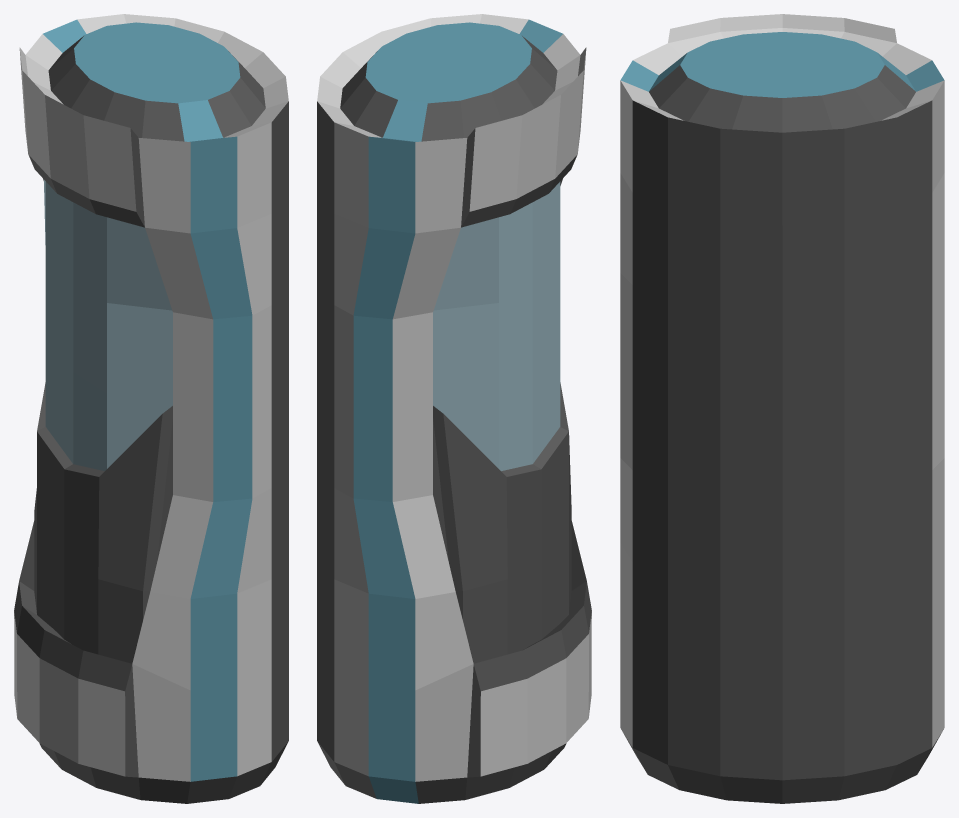
The model's file is CryoTubeUp.dae.
3 views of the same model, side by side, from view 1: azimuth 30°, elevation 25°; view 2: azimuth 150°, elevation 25°; view 3: azimuth 270°, elevation 25° (orthographic).
Visible parts, largest first — view 1: CryoTubeUp; view 2: CryoTubeUp; view 3: CryoTubeUp.
Boxes of the visible parts, x1,y1,x2,y2 form: CryoTubeUp: (14,14,288,803); CryoTubeUp: (317,14,591,803); CryoTubeUp: (620,14,944,803).
Size of the model in its own units: 0.9152 by 1.13 by 2.67.
